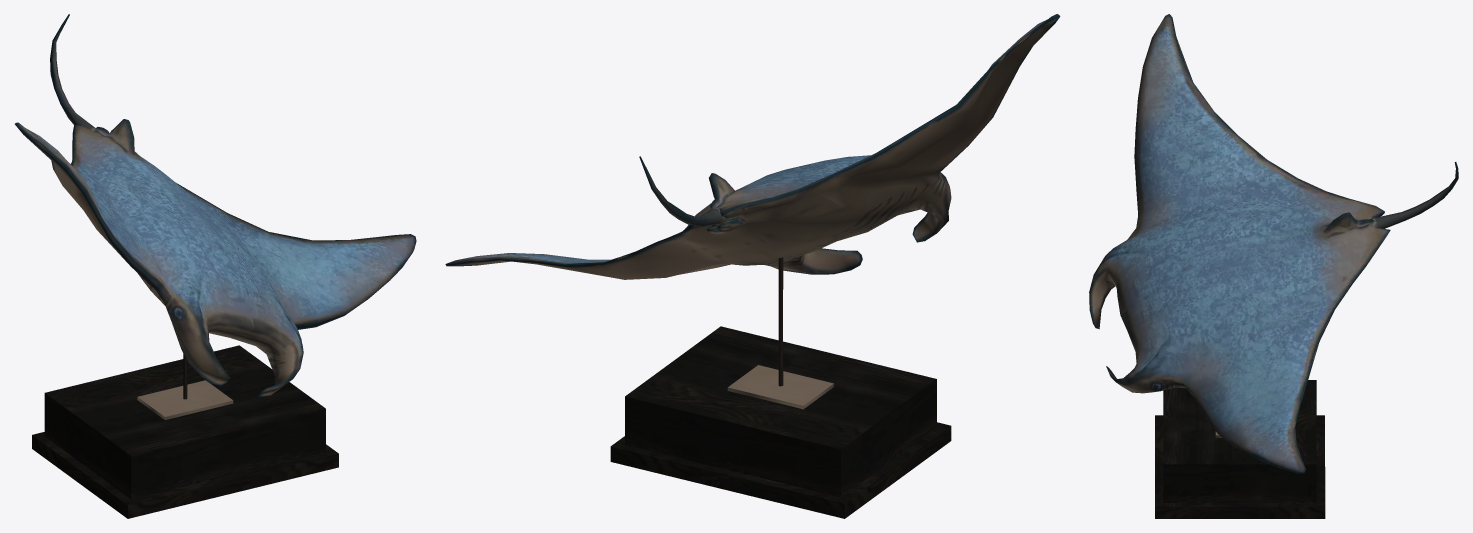
The model's file is bronze_ray_statue.glb.
3 renders of one model, left to right at view 1: azimuth 30°, elevation 25°; view 2: azimuth 150°, elevation 25°; view 3: azimuth 270°, elevation 25°, orthographic. The views are drawn at different scales.
Parts seen in each view (by area): view 1: bronze_ray_statue; view 2: bronze_ray_statue; view 3: bronze_ray_statue.
Boxes of the visible parts, x1,y1,x2,y2 form: bronze_ray_statue: (15,14,416,518); bronze_ray_statue: (445,14,1060,518); bronze_ray_statue: (1089,14,1458,518).
Size of the model in its own units: 0.7075 by 0.5896 by 0.5354.
1 material, 1 textured.
